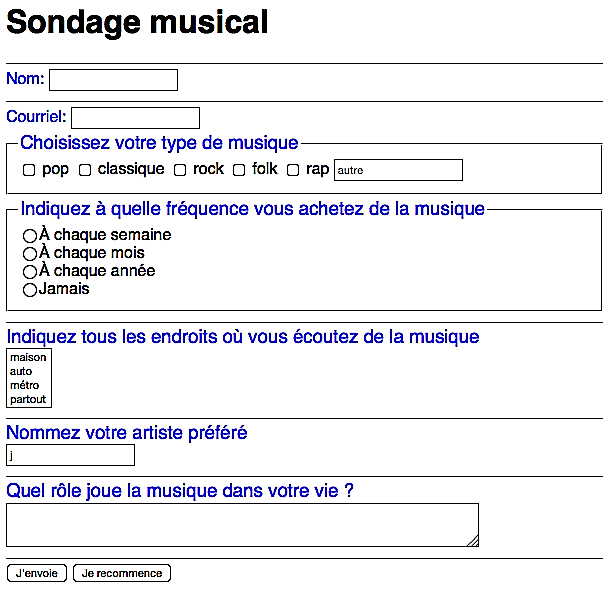_form_: (1, 54, 416, 470), (1, 188, 416, 604)
button: (72, 563, 172, 584), (5, 563, 69, 583)
checkbox: (77, 163, 92, 178), (231, 163, 246, 178), (172, 162, 187, 176), (286, 162, 299, 177), (21, 163, 33, 177)
checkbox_with_label: (75, 160, 163, 179), (168, 160, 224, 179), (18, 160, 67, 179), (281, 161, 329, 179), (230, 161, 276, 179)
field: (3, 501, 481, 548), (69, 105, 203, 132), (5, 443, 136, 468), (47, 67, 179, 91), (332, 158, 464, 182)
field_with_label: (2, 481, 483, 549), (3, 422, 248, 468), (5, 103, 204, 135), (6, 66, 179, 93)
radio: (21, 281, 38, 299), (21, 227, 38, 244), (21, 263, 38, 279), (21, 245, 36, 263)
radio_with_label: (19, 224, 172, 246), (17, 261, 156, 283), (19, 243, 146, 264), (17, 281, 90, 300)
